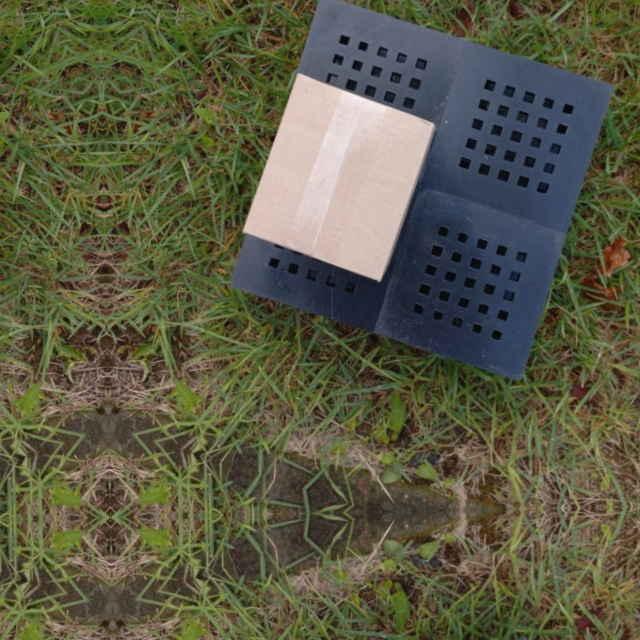box: (238, 71, 439, 286)
pallet: (220, 0, 624, 394)
